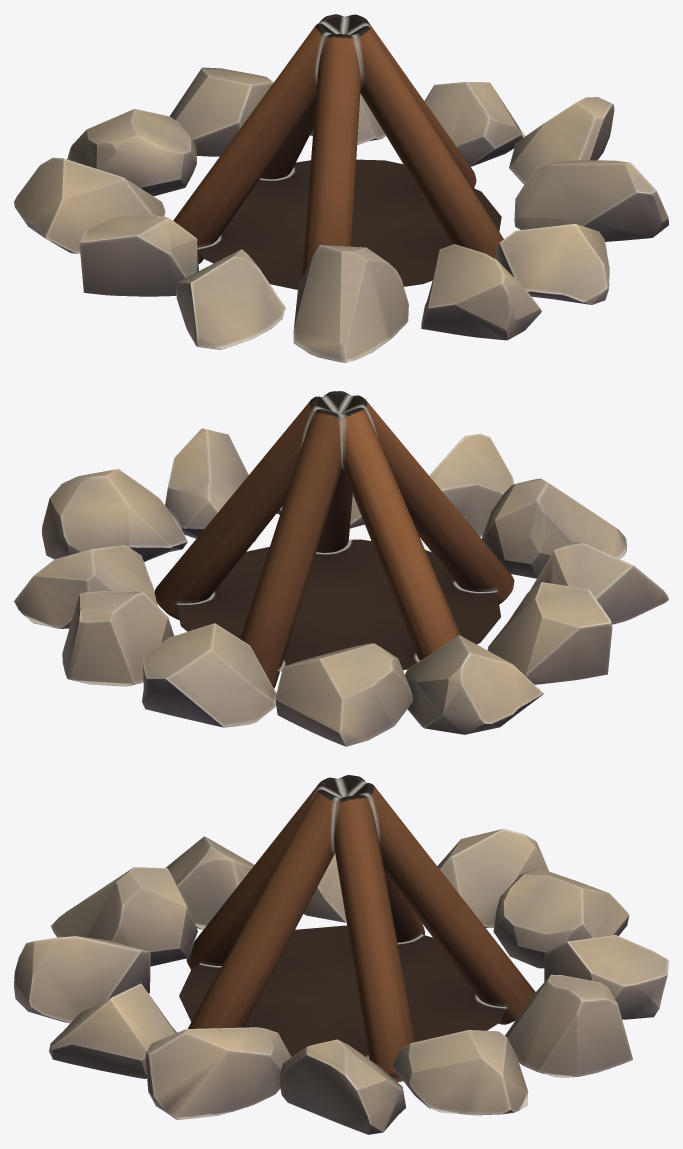
File: campfire.glb
3 renders of one model, top to bottom at view 1: azimuth 30°, elevation 25°; view 2: azimuth 150°, elevation 25°; view 3: azimuth 270°, elevation 25°, orthographic. The views are drawn at different scales.
Parts seen in each view (by area): view 1: campfire; view 2: campfire; view 3: campfire.
Boxes of the visible parts, bbox=[...] form: campfire: bbox=[14, 14, 668, 362]; campfire: bbox=[14, 391, 668, 746]; campfire: bbox=[14, 775, 668, 1134].
Bounding box in the file's own units: 2.16 × 0.8549 × 2.16.
1 material, 1 textured.
